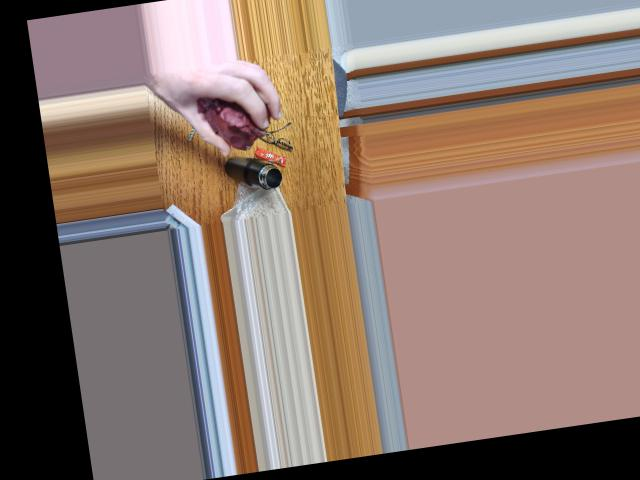onion: (195, 87, 268, 149)
